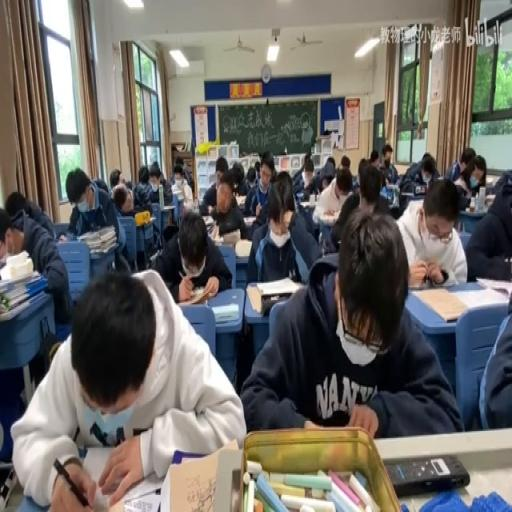calculator: (162, 439, 239, 512), (71, 445, 157, 506), (410, 286, 468, 321), (458, 284, 508, 310), (256, 274, 302, 294), (210, 302, 238, 324), (244, 284, 262, 314), (315, 209, 338, 226), (219, 229, 240, 247), (234, 236, 252, 256), (135, 214, 157, 228), (461, 206, 490, 215), (400, 189, 422, 198), (205, 219, 215, 235), (242, 215, 256, 226), (234, 194, 246, 206), (386, 182, 399, 192), (299, 199, 313, 208), (454, 219, 462, 233), (160, 204, 174, 210)
paper: (14, 263, 244, 508), (240, 206, 458, 438), (0, 196, 70, 328), (396, 176, 467, 286), (154, 205, 230, 300), (66, 165, 129, 272), (328, 161, 390, 250), (462, 172, 512, 282), (251, 161, 306, 230), (200, 155, 230, 211), (144, 159, 174, 205), (170, 160, 192, 204), (376, 142, 398, 182), (300, 164, 324, 200), (466, 155, 487, 196), (110, 180, 134, 214), (4, 191, 29, 223), (419, 152, 437, 185), (229, 161, 245, 195), (334, 171, 352, 199), (452, 179, 470, 205), (484, 176, 503, 196), (108, 168, 122, 189), (94, 176, 108, 194), (138, 166, 150, 185), (245, 165, 255, 185), (450, 160, 459, 180), (357, 158, 366, 176), (320, 176, 330, 192), (325, 155, 334, 172), (369, 148, 378, 165), (303, 155, 312, 172), (340, 155, 350, 169), (174, 155, 183, 169), (253, 160, 260, 178), (381, 154, 387, 164)
person: (385, 452, 470, 496), (261, 292, 293, 314)
